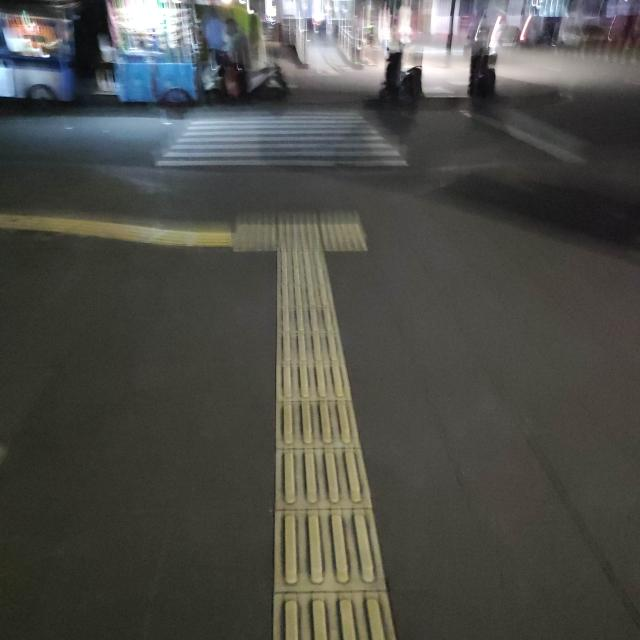kiri: (171, 207, 338, 273)
